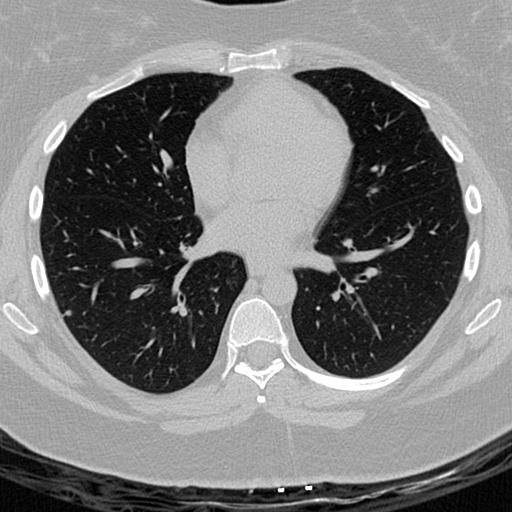nodule: (63, 307, 75, 319)
